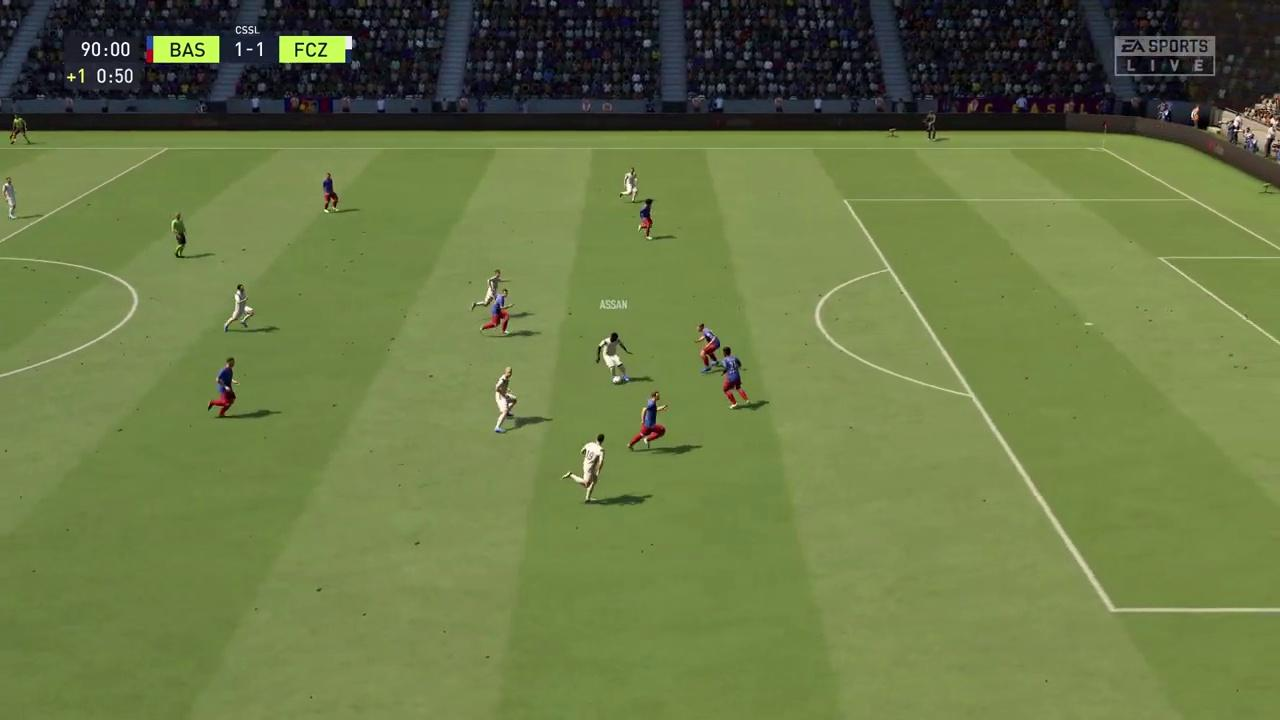scoreboard: (150, 35, 357, 64)
timestamp: (68, 35, 141, 90)
